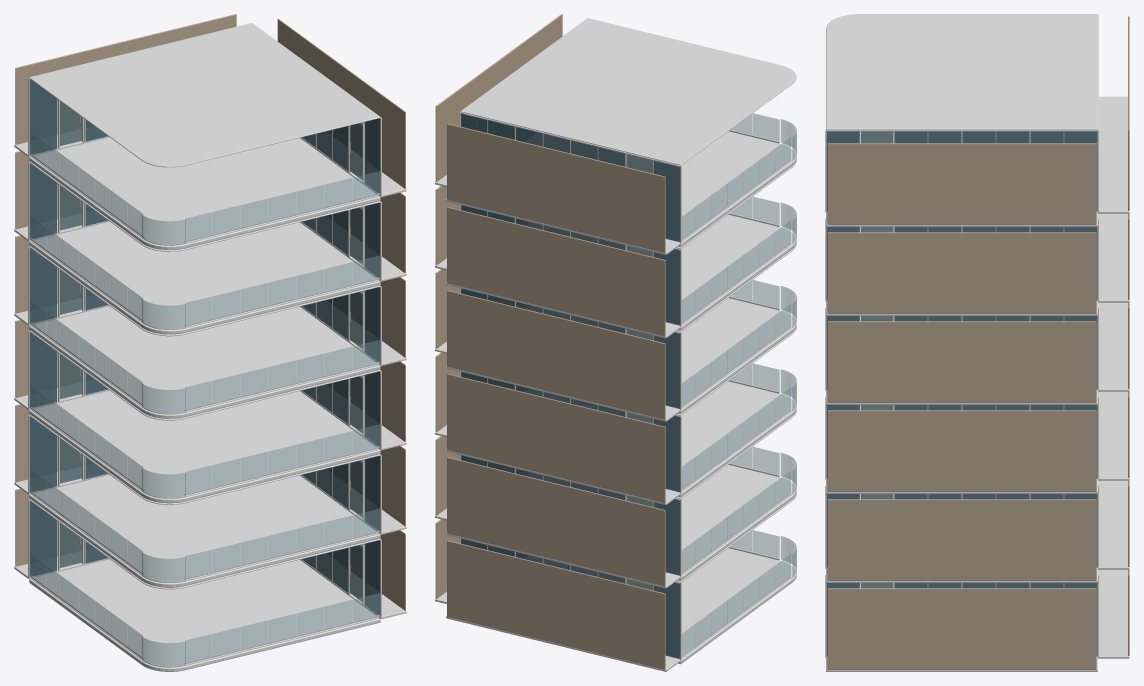
File: Hospital_EXT_Balconies.fbx
The picture shows the model from 3 angles, left to right: view 1: azimuth 30°, elevation 25°; view 2: azimuth 150°, elevation 25°; view 3: azimuth 270°, elevation 25°; orthographic projection. The views are drawn at different scales.
Visible parts, largest first — view 1: UE_EXT_Balconies_FIXTURE_L07_01, UE_EXT_Balconies_OPAQUE_L07_04, UE_EXT_Balconies_OPAQUE_L02_04, UE_EXT_Balconies_OPAQUE_L04_04, UE_EXT_Balconies_OPAQUE_L05_04, UE_EXT_Balconies_OPAQUE_L06_04, UE_EXT_Balconies_OPAQUE_L03_04, UE_EXT_Balconies_OPAQUE_L07_05, UE_EXT_Balconies_GLASS_ALL_01, UE_EXT_Balconies_GLASS_L02_02, UE_EXT_Balconies_GLASS_L05_02, UE_EXT_Balconies_GLASS_L07_02 (+38 smaller); view 2: UE_EXT_Balconies_FIXTURE_L07_01, UE_EXT_Balconies_OPAQUE_L07_05, UE_EXT_Balconies_OPAQUE_L02_05, UE_EXT_Balconies_OPAQUE_L03_05, UE_EXT_Balconies_OPAQUE_L05_05, UE_EXT_Balconies_OPAQUE_L04_05, UE_EXT_Balconies_OPAQUE_L06_05, UE_EXT_Balconies_OPAQUE_L07_04, UE_EXT_Balconies_OPAQUE_L05_04, UE_EXT_Balconies_OPAQUE_L03_04, UE_EXT_Balconies_OPAQUE_L06_04, UE_EXT_Balconies_OPAQUE_L02_04 (+26 smaller); view 3: UE_EXT_Balconies_FIXTURE_L07_01, UE_EXT_Balconies_OPAQUE_L07_05, UE_EXT_Balconies_OPAQUE_L02_05, UE_EXT_Balconies_OPAQUE_L03_05, UE_EXT_Balconies_OPAQUE_L04_05, UE_EXT_Balconies_OPAQUE_L05_05, UE_EXT_Balconies_OPAQUE_L06_05, UE_EXT_Balconies_OPAQUE_L07_04, UE_EXT_Balconies_OPAQUE_L05_04, UE_EXT_Balconies_OPAQUE_L06_04, UE_EXT_Balconies_OPAQUE_L02_04, UE_EXT_Balconies_OPAQUE_L03_04 (+9 smaller).
Part boxes in pixels (<box>): UE_EXT_Balconies_FIXTURE_L07_01: <box>29,23,380,167</box>; UE_EXT_Balconies_OPAQUE_L07_04: <box>14,129,406,245</box>; UE_EXT_Balconies_OPAQUE_L02_04: <box>14,551,406,667</box>; UE_EXT_Balconies_OPAQUE_L04_04: <box>14,382,406,498</box>; UE_EXT_Balconies_OPAQUE_L05_04: <box>14,298,406,414</box>; UE_EXT_Balconies_OPAQUE_L06_04: <box>14,214,406,329</box>; UE_EXT_Balconies_OPAQUE_L03_04: <box>14,467,406,582</box>; UE_EXT_Balconies_OPAQUE_L07_05: <box>15,14,405,188</box>; UE_EXT_Balconies_GLASS_ALL_01: <box>60,101,364,601</box>; UE_EXT_Balconies_GLASS_L02_02: <box>31,554,379,663</box>; UE_EXT_Balconies_GLASS_L05_02: <box>31,301,379,410</box>; UE_EXT_Balconies_GLASS_L07_02: <box>31,132,379,241</box>; UE_EXT_Balconies_FIXTURE_L07_01: <box>460,18,796,165</box>; UE_EXT_Balconies_OPAQUE_L07_05: <box>435,14,665,252</box>; UE_EXT_Balconies_OPAQUE_L02_05: <box>435,519,665,669</box>; UE_EXT_Balconies_OPAQUE_L03_05: <box>435,436,665,586</box>; UE_EXT_Balconies_OPAQUE_L05_05: <box>435,269,665,419</box>; UE_EXT_Balconies_OPAQUE_L04_05: <box>435,352,665,502</box>; UE_EXT_Balconies_OPAQUE_L06_05: <box>435,186,665,336</box>; UE_EXT_Balconies_OPAQUE_L07_04: <box>435,131,794,254</box>; UE_EXT_Balconies_OPAQUE_L05_04: <box>435,298,794,421</box>; UE_EXT_Balconies_OPAQUE_L03_04: <box>435,464,794,588</box>; UE_EXT_Balconies_OPAQUE_L06_04: <box>435,214,794,338</box>; UE_EXT_Balconies_OPAQUE_L02_04: <box>435,548,794,671</box>; UE_EXT_Balconies_FIXTURE_L07_01: <box>826,14,1097,129</box>; UE_EXT_Balconies_OPAQUE_L07_05: <box>827,16,1129,224</box>; UE_EXT_Balconies_OPAQUE_L02_05: <box>827,569,1129,669</box>; UE_EXT_Balconies_OPAQUE_L03_05: <box>827,480,1129,580</box>; UE_EXT_Balconies_OPAQUE_L04_05: <box>827,391,1129,491</box>; UE_EXT_Balconies_OPAQUE_L05_05: <box>827,302,1129,402</box>; UE_EXT_Balconies_OPAQUE_L06_05: <box>827,213,1129,313</box>; UE_EXT_Balconies_OPAQUE_L07_04: <box>826,96,1129,226</box>; UE_EXT_Balconies_OPAQUE_L05_04: <box>826,302,1129,404</box>; UE_EXT_Balconies_OPAQUE_L06_04: <box>826,213,1129,315</box>; UE_EXT_Balconies_OPAQUE_L02_04: <box>826,569,1129,671</box>; UE_EXT_Balconies_OPAQUE_L03_04: <box>826,480,1129,582</box>.
Size of the model in its own units: 12.08 by 23.38 by 12.08.
